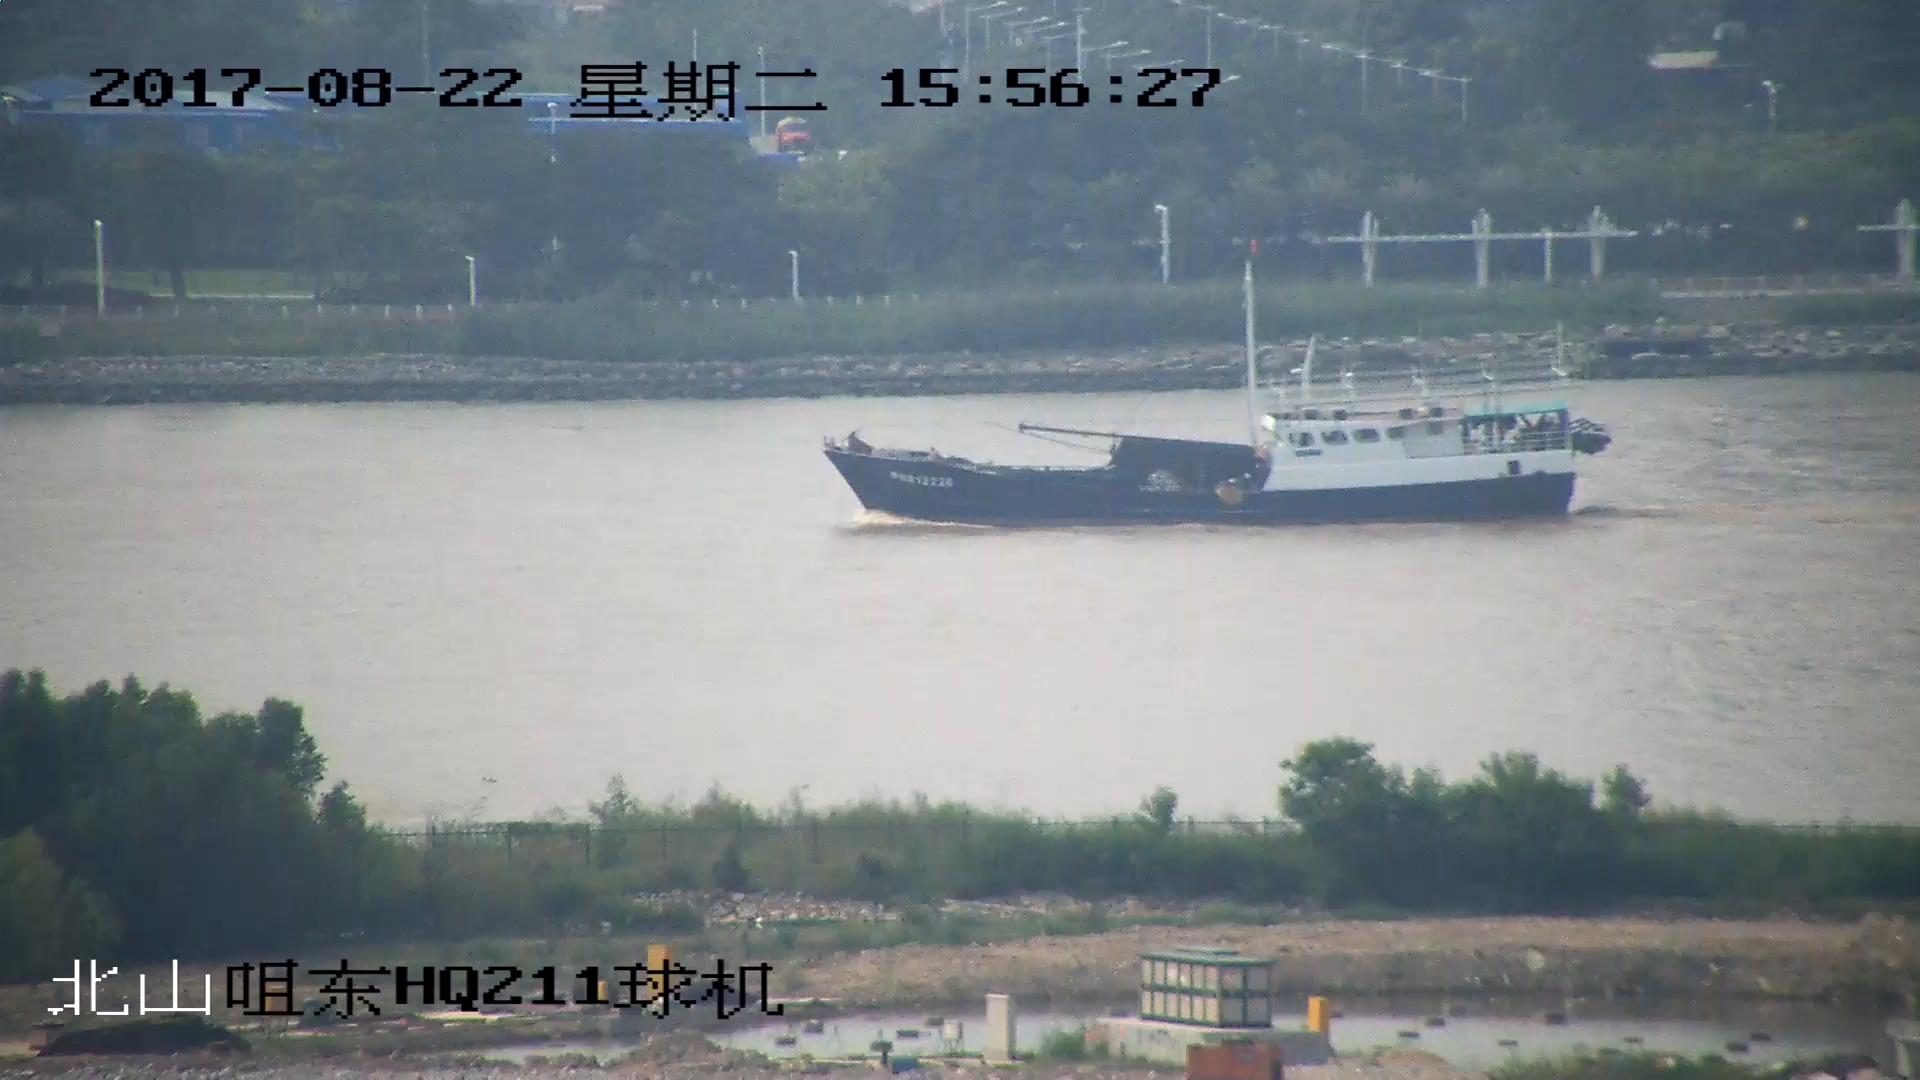fishing boat: (816, 255, 1606, 522)
